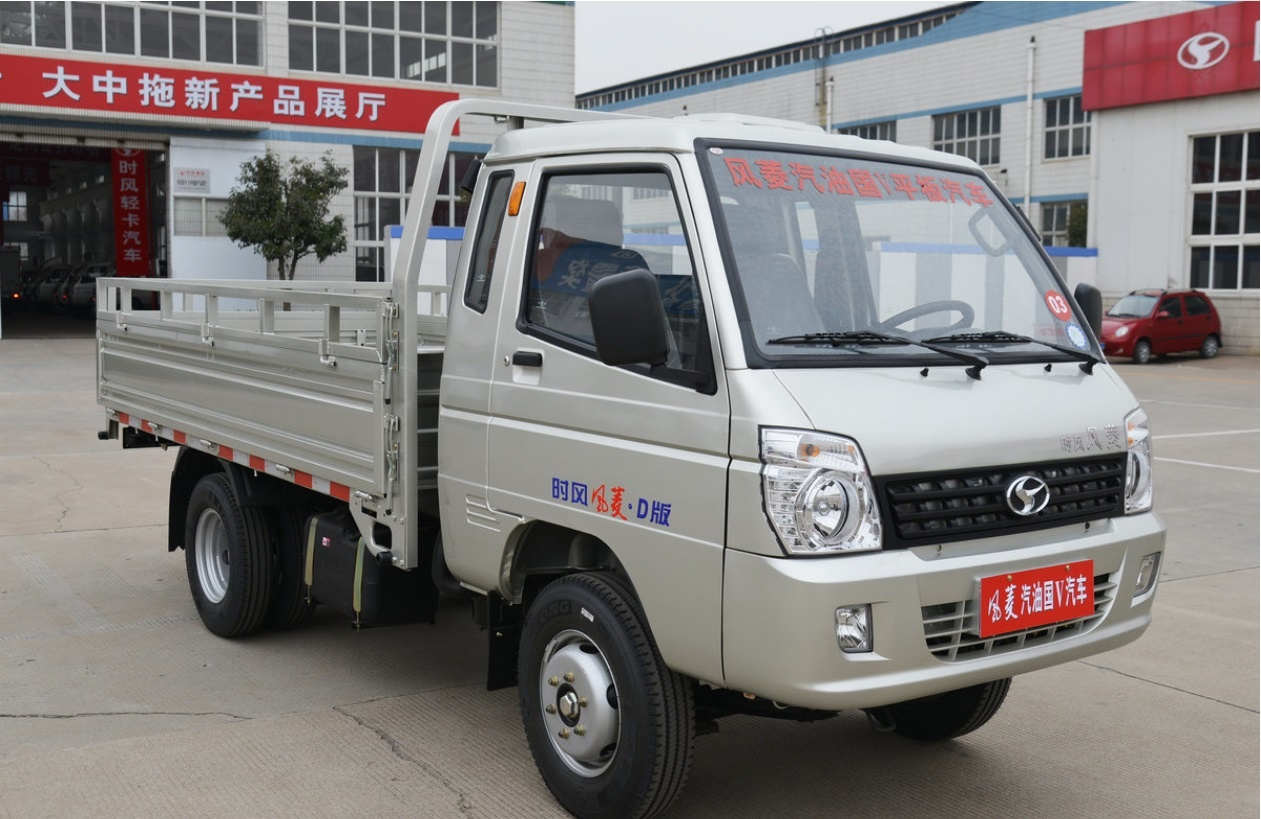truck: (95, 109, 1171, 808)
